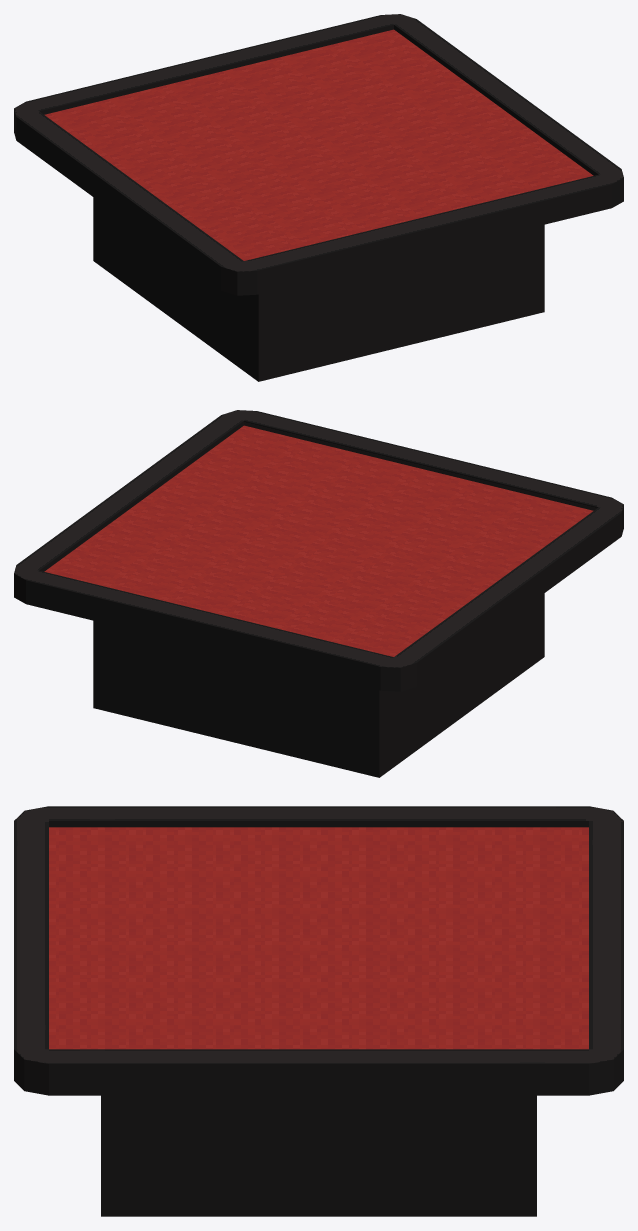
Rendered from Table3.gltf.
3 views of the same model, one above another, from view 1: azimuth 30°, elevation 25°; view 2: azimuth 150°, elevation 25°; view 3: azimuth 270°, elevation 25° (orthographic). The views are drawn at different scales.
Visible parts, largest first — view 1: Top, cuboid; view 2: Top, cuboid; view 3: Top, cuboid.
Part boxes in pixels (x1,y1,x2,y2): Top: (14, 14, 623, 295); cuboid: (93, 197, 544, 381); Top: (14, 410, 623, 691); cuboid: (93, 593, 544, 777); Top: (14, 806, 623, 1095); cuboid: (101, 1095, 536, 1216).
Bounding box in the file's own units: 10.94 × 3.75 × 10.94.
Materials: 1 (1 with a texture image).
